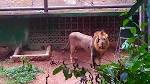lion: (65, 26, 110, 71)
